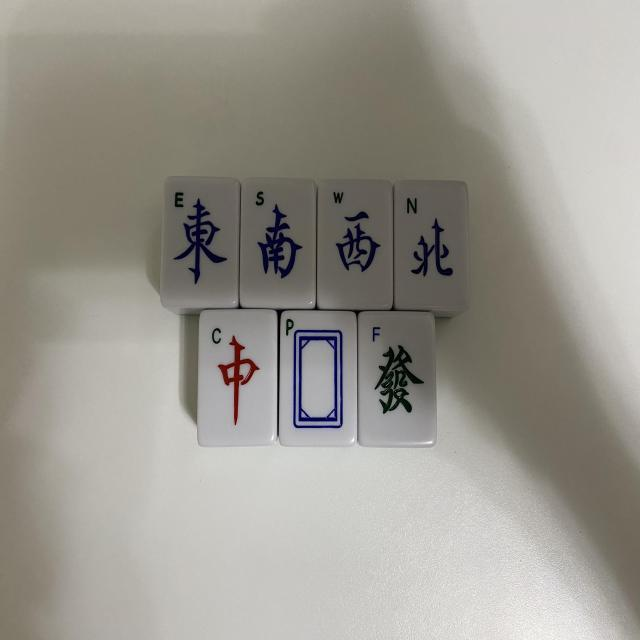hdg: (357, 311, 436, 447)
hdr: (197, 309, 278, 447)
hdw: (279, 310, 357, 447)
hwe: (160, 175, 239, 306)
hwn: (394, 180, 469, 310)
hws: (239, 177, 316, 307)
hww: (316, 179, 393, 309)
